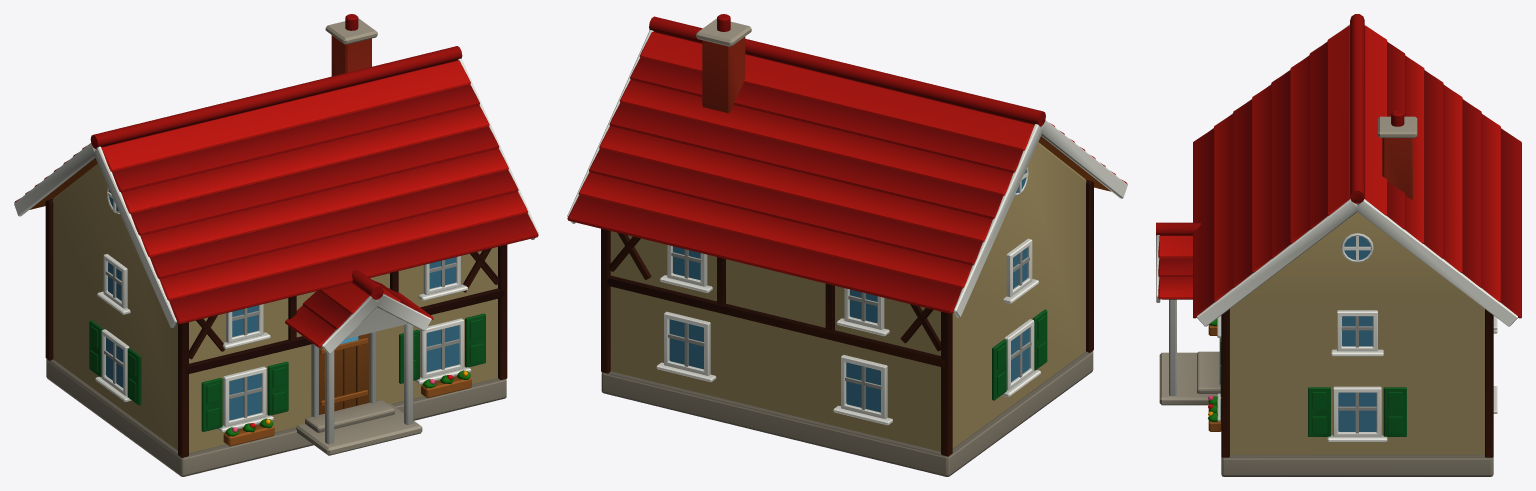
The model's file is Farmhouse.fbx.
3 views of the same model, side by side, from view 1: azimuth 30°, elevation 25°; view 2: azimuth 150°, elevation 25°; view 3: azimuth 270°, elevation 25° (orthographic). The views are drawn at different scales.
Visible parts, largest first — view 1: Farmhouse; view 2: Farmhouse; view 3: Farmhouse.
Part boxes in pixels (x1,y1,x2,y2): Farmhouse: [14, 14, 538, 476]; Farmhouse: [567, 14, 1127, 476]; Farmhouse: [1156, 14, 1521, 476].
Size of the model in its own units: 5.72 by 5.02 by 5.
